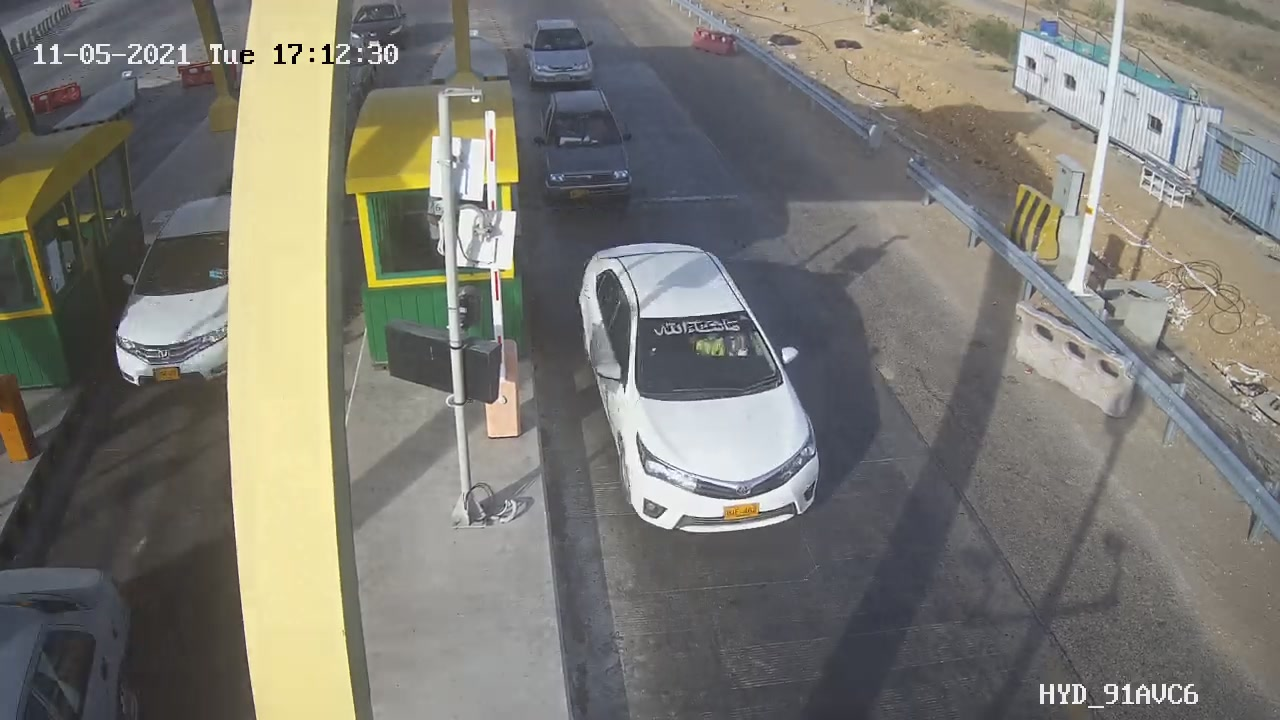F1: (552, 224, 860, 556), (517, 75, 652, 216)
